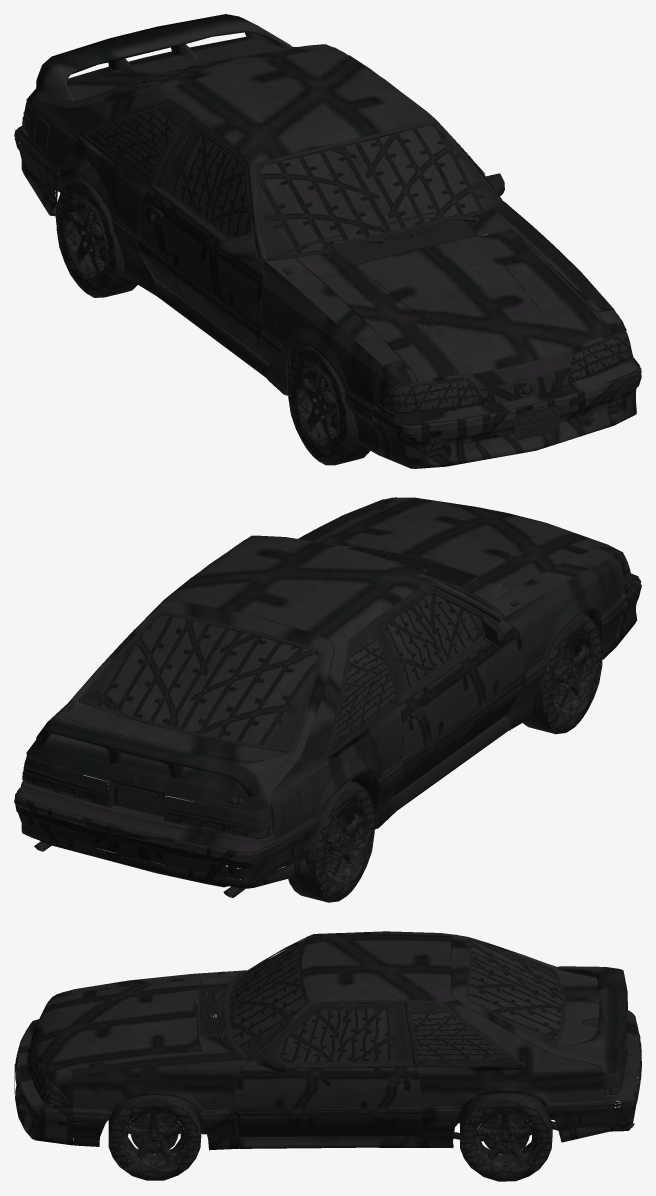
Rendered from Car_1993.fbx.
3 views of the same model, one above another, from view 1: azimuth 30°, elevation 25°; view 2: azimuth 150°, elevation 25°; view 3: azimuth 270°, elevation 25° (orthographic). The views are drawn at different scales.
Parts seen in each view (by area): view 1: car; view 2: car; view 3: car.
Part boxes in pixels (x1,y1,x2,y2): car: (14, 14, 641, 468); car: (14, 497, 641, 902); car: (14, 931, 641, 1181).
Bounding box in the file's own units: 182 × 140 × 456.
71 materials, 69 textured.
